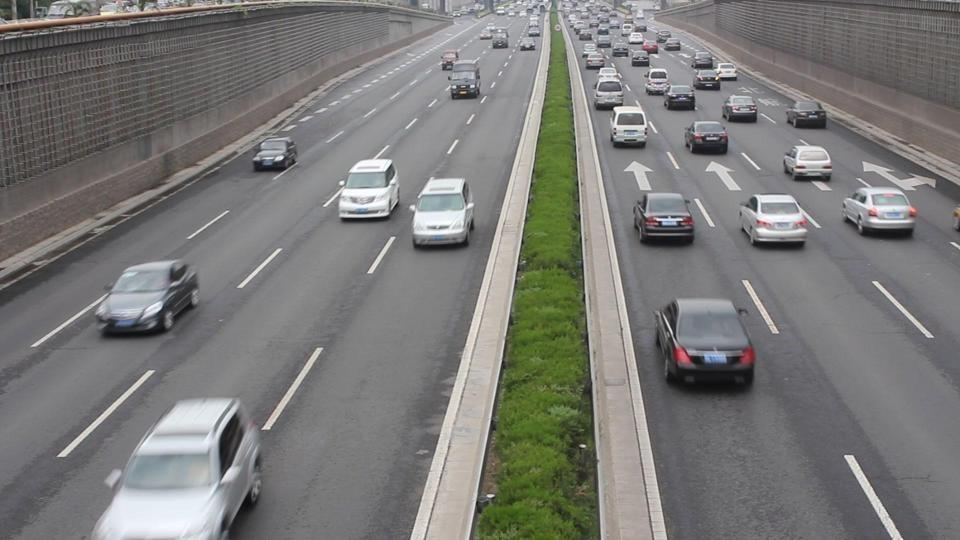car: (88, 396, 266, 539), (652, 297, 756, 389), (94, 260, 201, 336), (411, 176, 476, 248), (841, 184, 918, 237), (337, 158, 401, 221), (739, 193, 812, 247), (632, 192, 695, 244), (781, 143, 834, 182), (683, 120, 730, 155), (609, 106, 648, 148), (251, 137, 299, 171), (784, 97, 828, 129), (447, 63, 482, 100), (721, 92, 759, 123), (594, 78, 625, 110), (663, 84, 696, 110), (643, 68, 669, 95)
